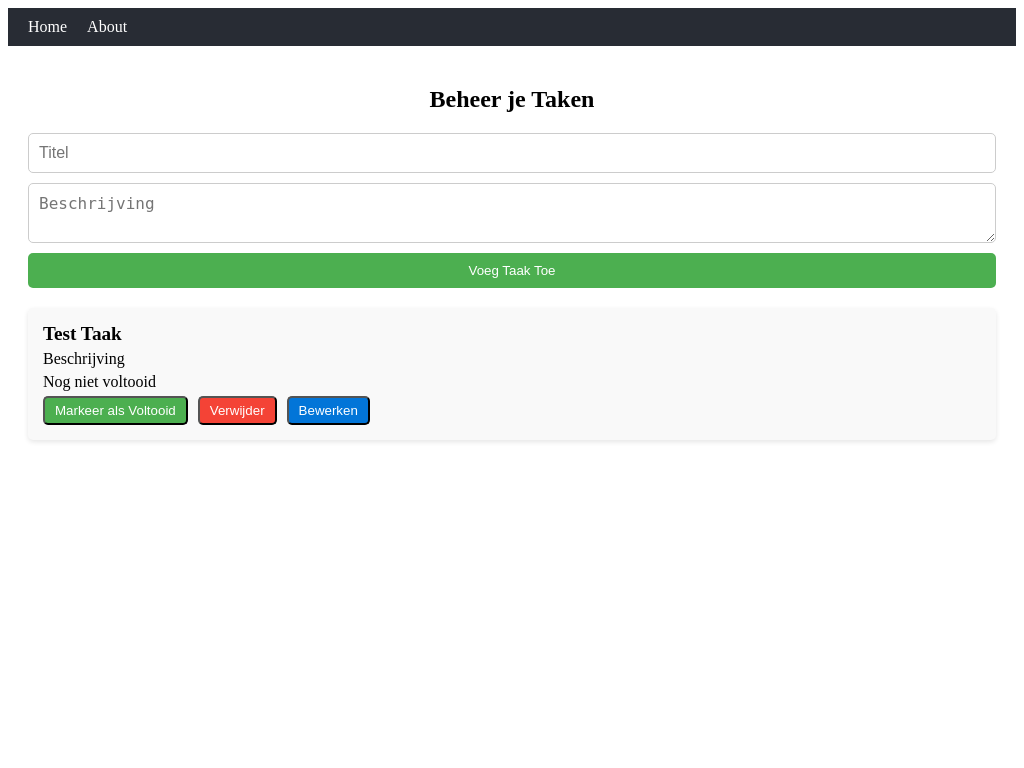
Test: Task Manager - PUT Task › should allow updating the description of a task
The width and height of the screenshot is (1024, 768).
Click the button "Bewerken": (329,411) [287,396,370,425]
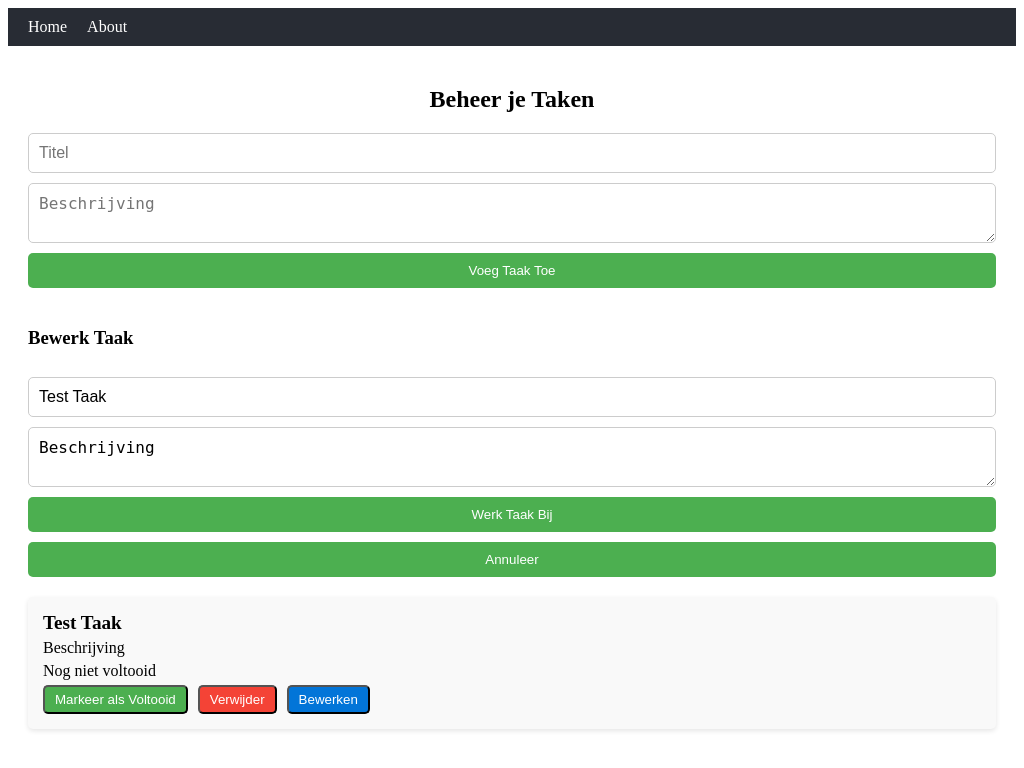
In the text box with placeholder "Beschrijving": (512,457) [28,427,996,487], type "Nieuwe Beschrijving"
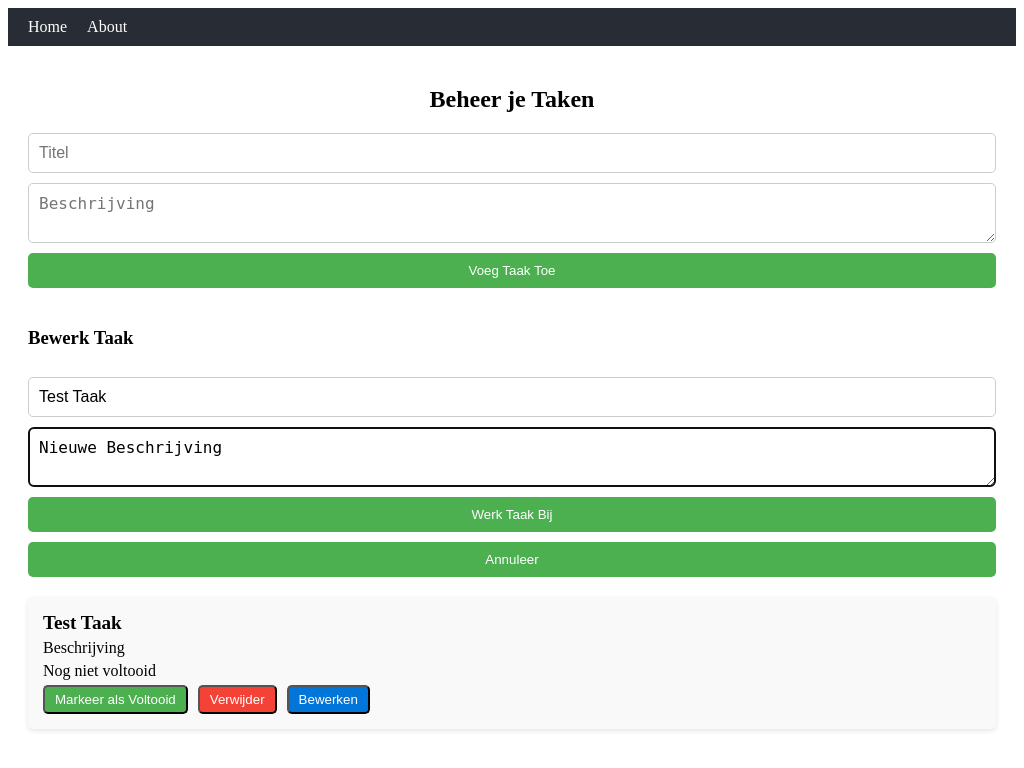
Click the button "Werk Taak Bij": (512,515) [28,497,996,532]
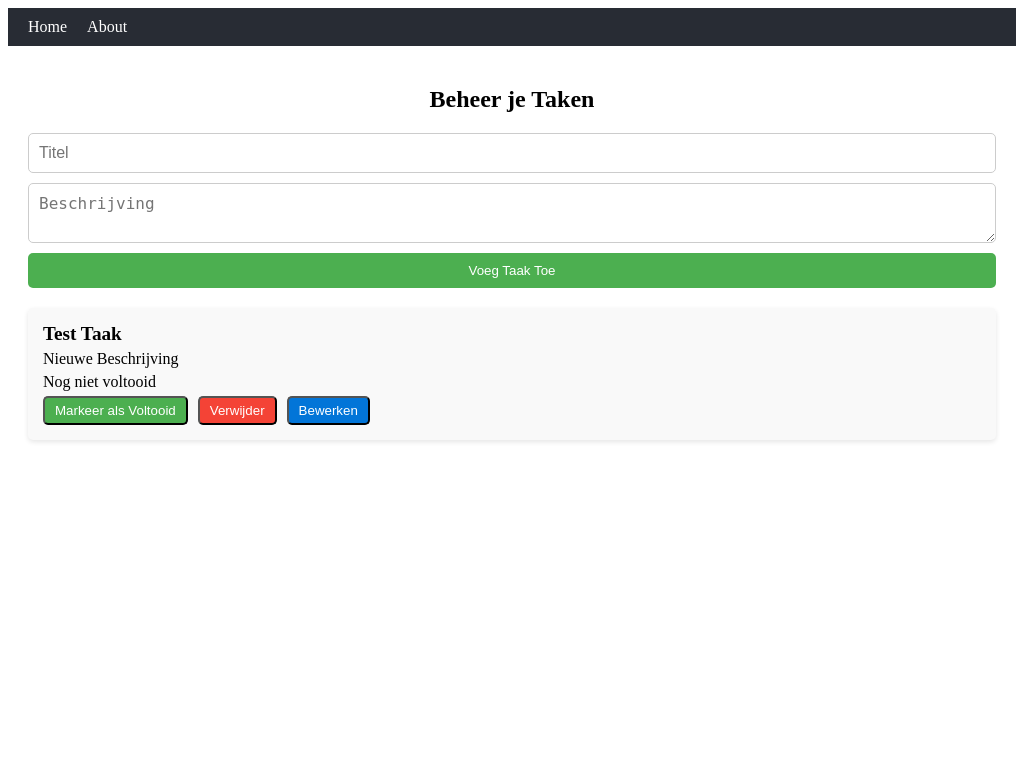
Expected: the text "Nieuwe Beschrijving" is shown, [43,350,178,367]
